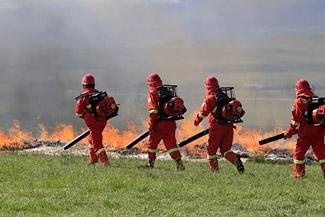fire: (0, 112, 80, 150)
